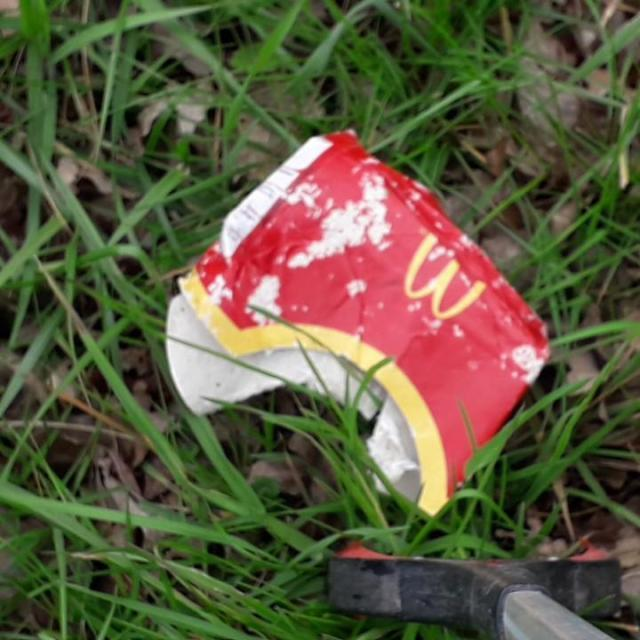Paper: (163, 125, 553, 519)
